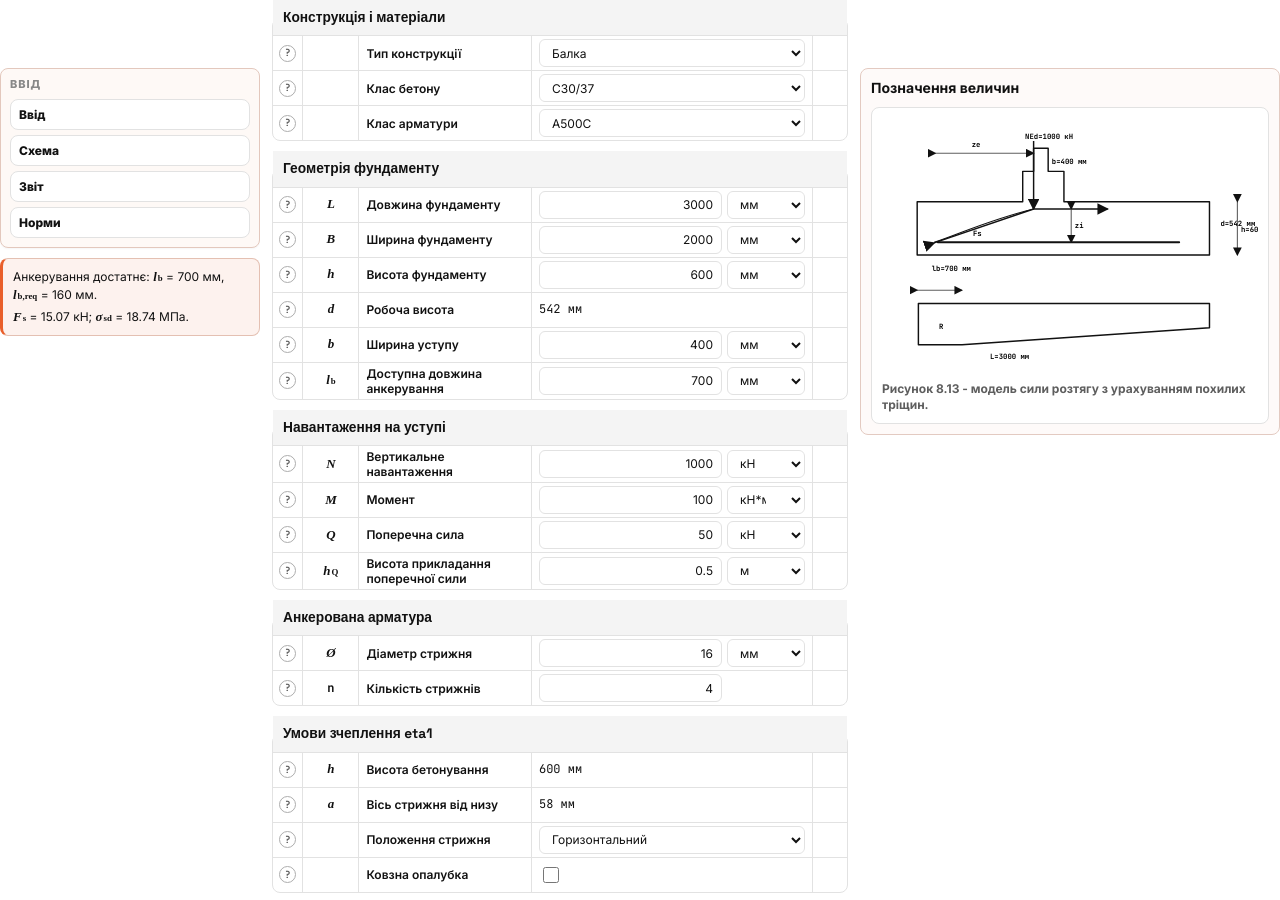
FoundationBarAnchorageCalculator › rejects malformed numeric text without keeping calculated output
The width and height of the screenshot is (1280, 900).
Replace the text in the field labelled "Довжина фундаменту" with "10abc" at [630, 205], box 539,191 -> 722,219
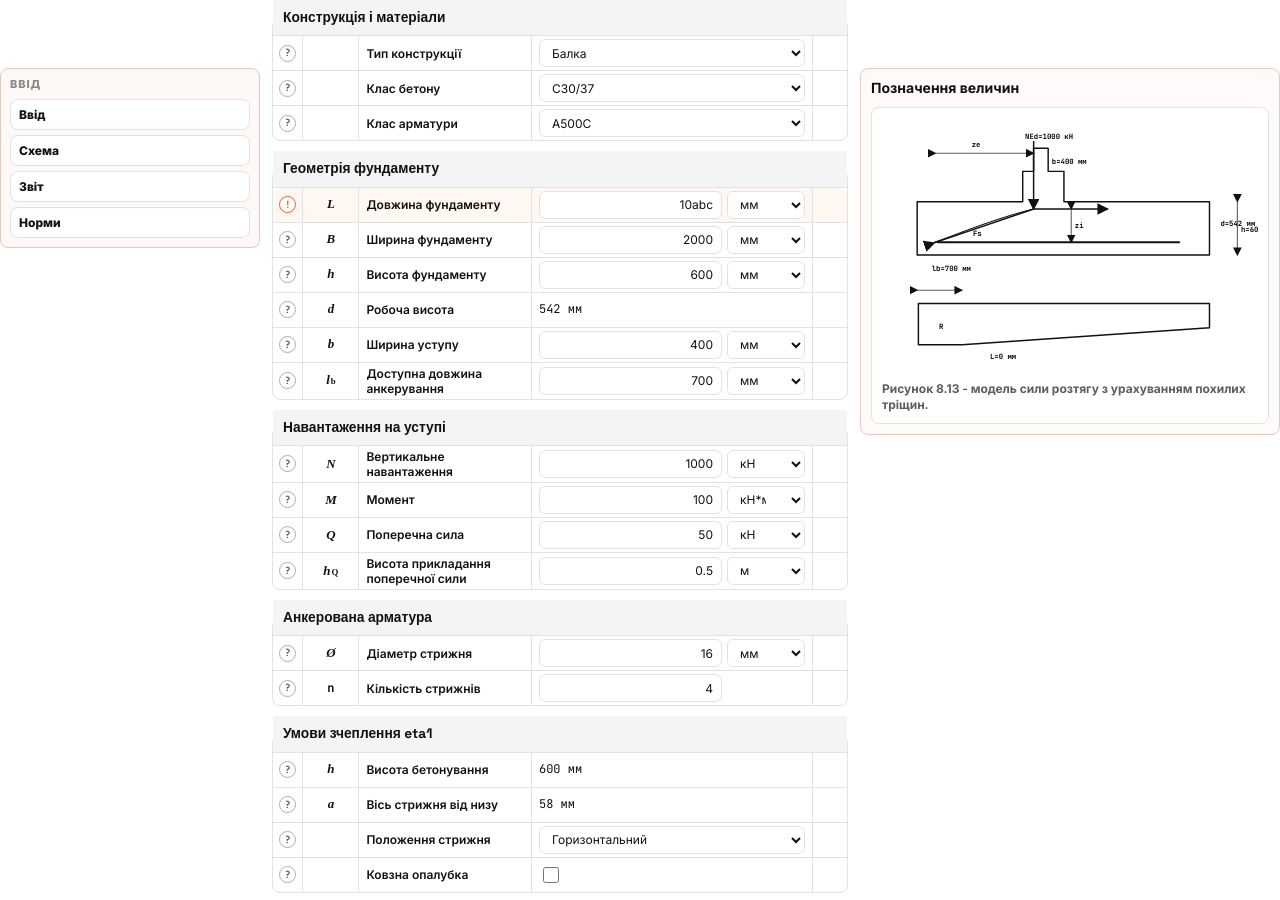
Expected: the button named "Показати помилку поля Довжина фундаменту" is shown, 279,196 -> 296,213
Expected: the text "Анкерування достатнє" is gone
